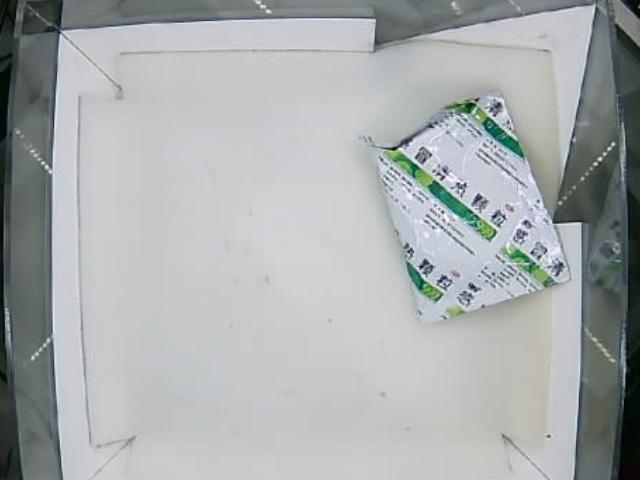Medicine: (356, 86, 570, 328)
